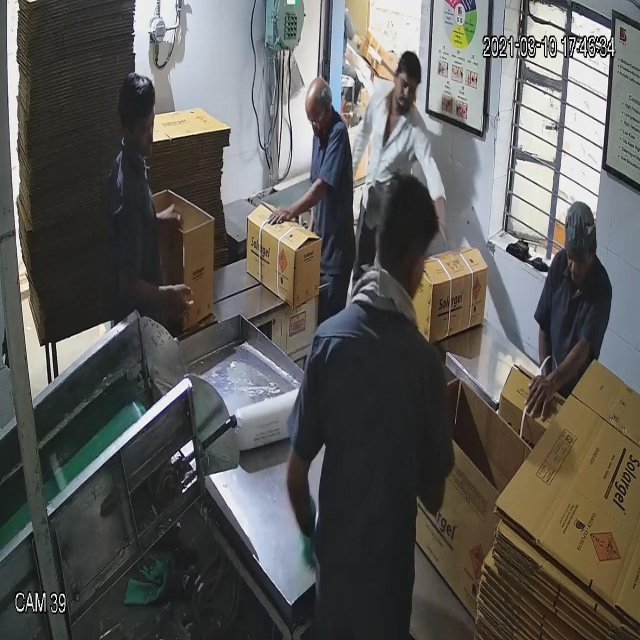Sin_guantes: (522, 321, 596, 428), (116, 249, 198, 325), (265, 171, 339, 237), (417, 134, 452, 257)
